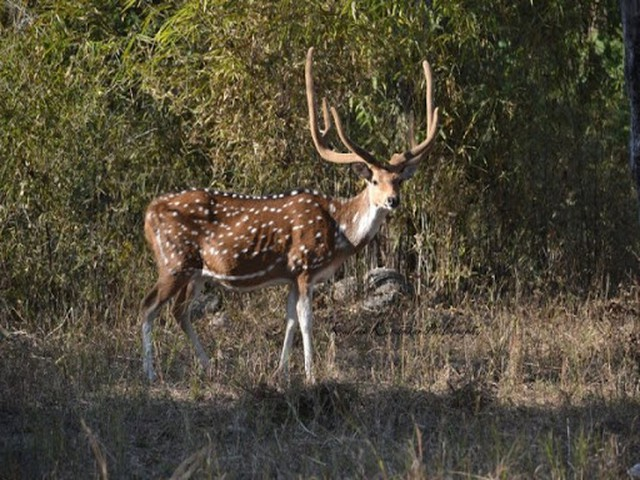deer: (92, 32, 478, 387)
